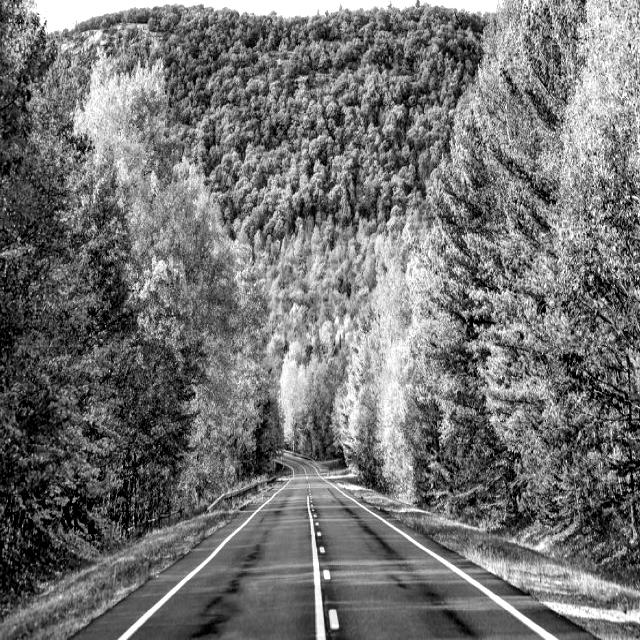cleat: (140, 304, 632, 640)
